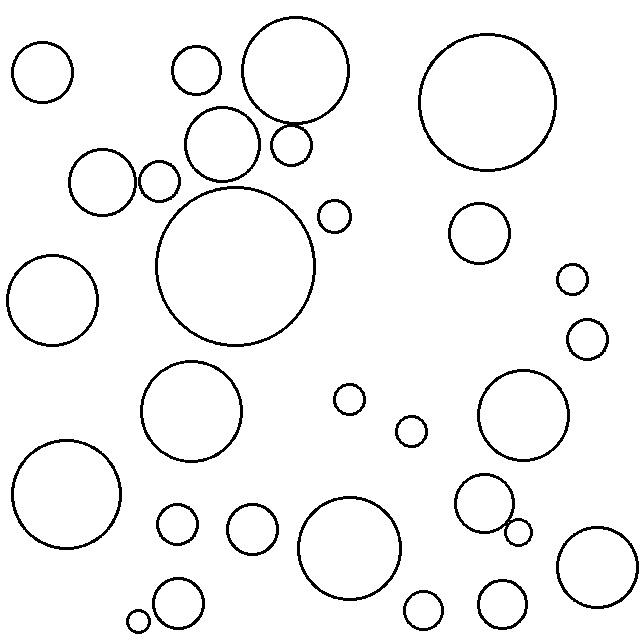circle: (154, 185, 319, 349), (418, 31, 558, 173), (10, 436, 125, 554), (239, 11, 352, 126), (140, 358, 246, 465), (296, 495, 404, 600), (4, 253, 102, 349), (475, 368, 573, 463), (556, 524, 639, 608), (182, 106, 264, 182), (66, 146, 136, 218), (445, 199, 514, 268), (9, 38, 76, 106), (452, 471, 516, 535), (148, 574, 208, 632), (227, 500, 280, 558), (171, 42, 223, 99), (477, 577, 530, 632), (155, 502, 202, 549), (269, 122, 314, 170), (566, 313, 611, 361), (136, 157, 184, 201), (404, 587, 445, 633), (316, 196, 355, 235), (331, 380, 369, 417), (393, 414, 430, 451), (555, 259, 590, 297), (503, 516, 535, 549), (125, 607, 152, 635)
